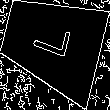L_W: (29, 21, 75, 66)
